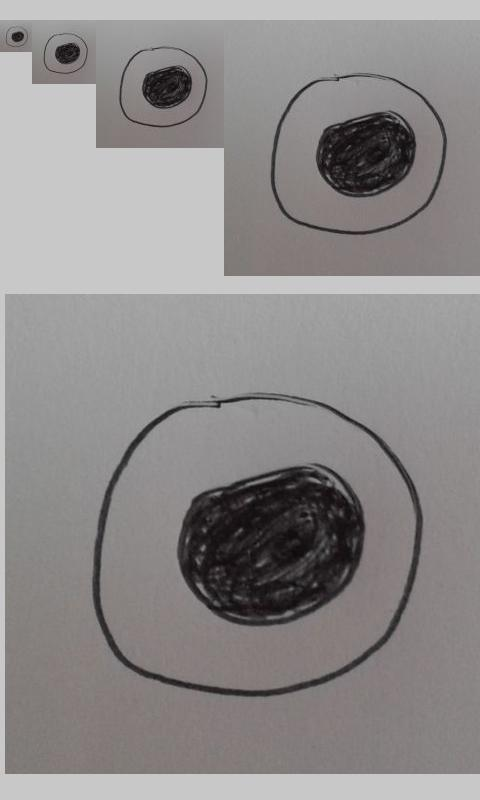radio_button: (88, 389, 427, 702), (266, 70, 451, 241), (118, 45, 208, 128), (42, 32, 89, 74), (5, 25, 29, 48)
